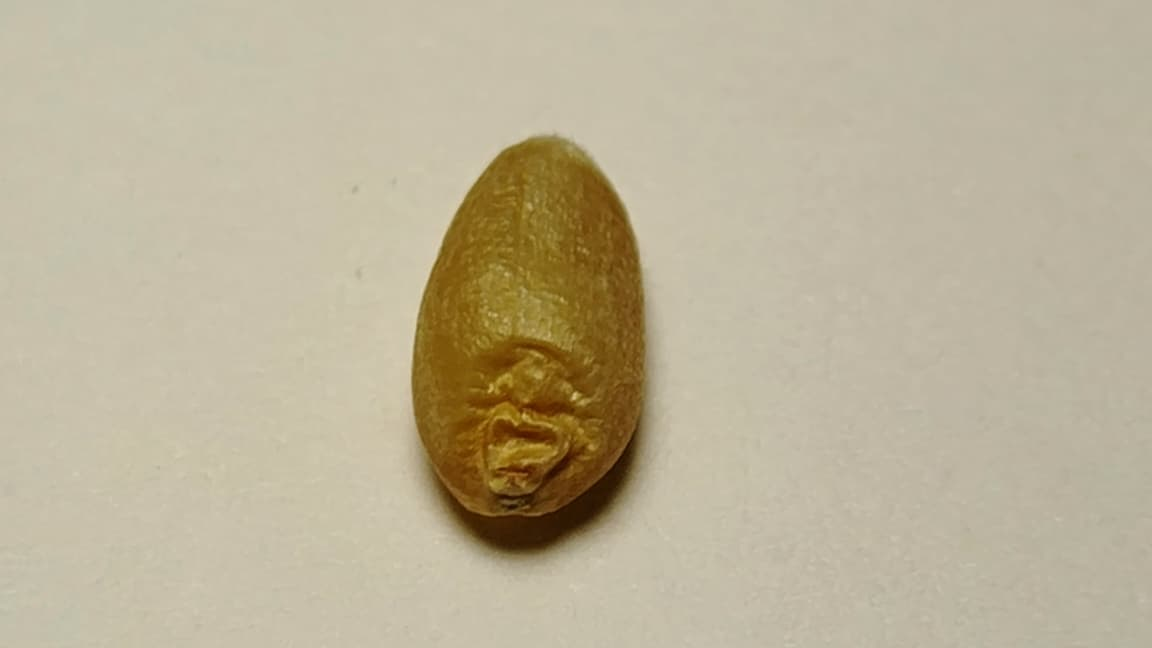healthy: (413, 136, 644, 515)
